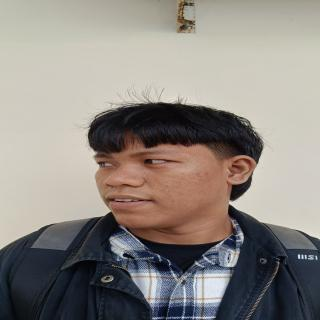Takut: (84, 118, 231, 237)
